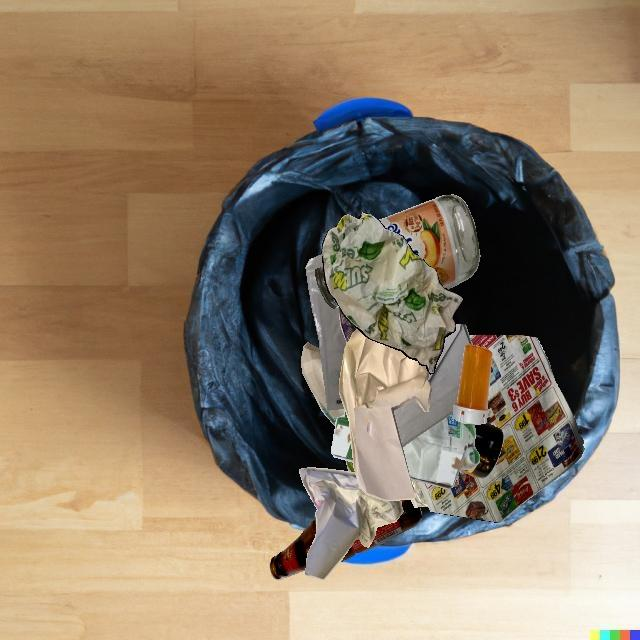cardboard: (402, 413, 480, 488), (339, 306, 358, 344)
glass: (379, 194, 480, 289), (339, 499, 422, 562), (269, 518, 317, 580), (460, 422, 503, 478), (345, 460, 355, 473)
paper: (419, 335, 585, 523), (322, 212, 463, 374), (339, 329, 431, 501), (299, 467, 403, 580), (393, 324, 473, 448), (301, 342, 344, 426), (410, 478, 428, 507)
plastic: (305, 254, 347, 410), (453, 344, 493, 425)
